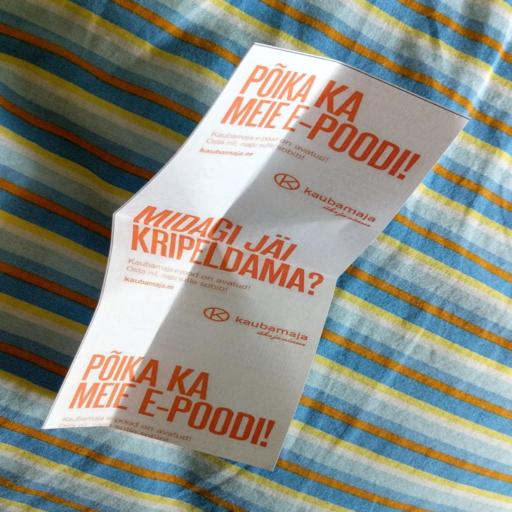paper: (7, 5, 487, 476)
